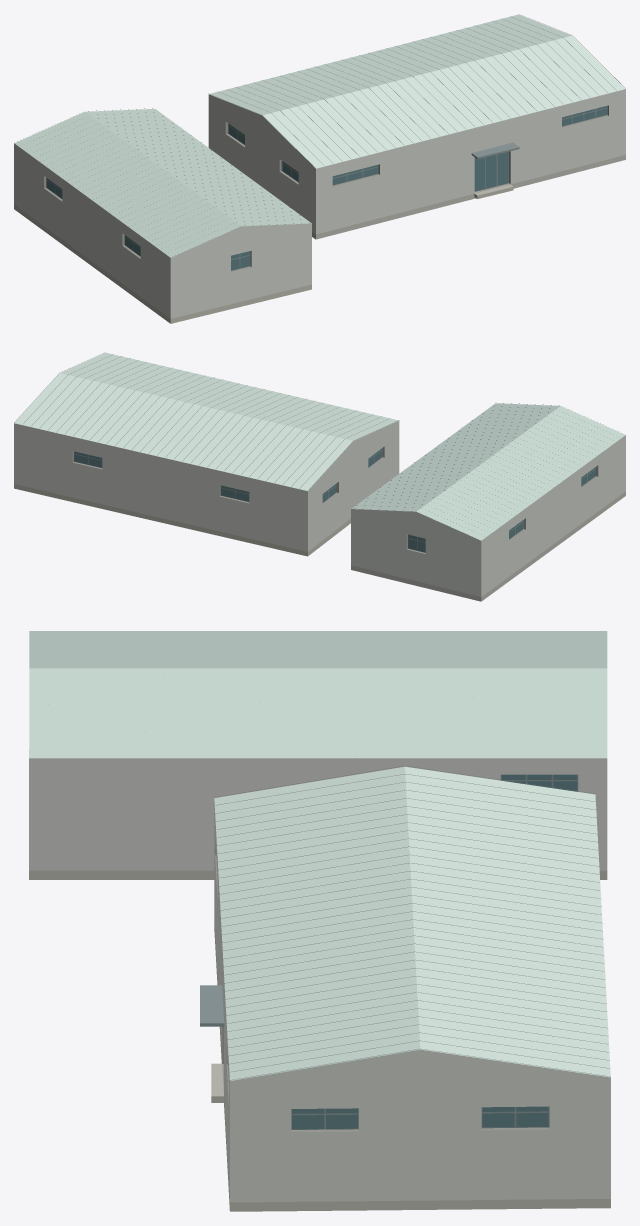
3 renders of one model, top to bottom at view 1: azimuth 30°, elevation 25°; view 2: azimuth 150°, elevation 25°; view 3: azimuth 270°, elevation 25°, orthographic. The views are drawn at different scales.
Visible parts, largest first — view 1: old-museum__mintPitchedWing1, old-museum__mintPitchedWing0, old-museum__museumWing1_face1, old-museum__museumWing0_face2, old-museum__museumWing0_face1, old-museum__museumWing1_face2, old-museum__mintPitchedWing1Seams, old-museum__museumWing0Base, old-museum__museumWing1Base, old-museum__museumWing1_face1_entry, old-museum__mintPitchedWing0End, old-museum__mintPitchedWing1End (+4 smaller); view 2: old-museum__mintPitchedWing1, old-museum__mintPitchedWing0, old-museum__museumWing1_face3, old-museum__museumWing0_face2, old-museum__museumWing0_face3, old-museum__museumWing1_face2, old-museum__mintPitchedWing1Seams, old-museum__museumWing1Base, old-museum__museumWing0Base, old-museum__mintPitchedWing0End, old-museum__mintPitchedWing1End, old-museum__museumWing1_face3_glass (+3 smaller); view 3: old-museum__mintPitchedWing1, old-museum__mintPitchedWing0, old-museum__museumWing1_face0, old-museum__museumWing0_face0, old-museum__mintPitchedWing1Seams, old-museum__mintPitchedWing1End, old-museum__museumWing1Base, old-museum__museumWing1_face0_glass, old-museum__museumWing0Base, old-museum__museumWing1_face1, old-museum__entryWeatherHood, old-museum__frame (+1 smaller).
Part boxes in pixels (left/top/right/bottom): old-museum__mintPitchedWing1: left=209, top=14, right=625, bottom=168; old-museum__mintPitchedWing0: left=14, top=109, right=311, bottom=257; old-museum__museumWing1_face1: left=316, top=89, right=625, bottom=234; old-museum__museumWing0_face2: left=14, top=143, right=170, bottom=318; old-museum__museumWing0_face1: left=170, top=223, right=311, bottom=318; old-museum__museumWing1_face2: left=208, top=94, right=315, bottom=234; old-museum__mintPitchedWing1Seams: left=208, top=14, right=625, bottom=167; old-museum__museumWing0Base: left=14, top=204, right=311, bottom=323; old-museum__museumWing1Base: left=312, top=155, right=625, bottom=239; old-museum__museumWing1_face1_entry: left=474, top=152, right=508, bottom=191; old-museum__mintPitchedWing0End: left=172, top=223, right=310, bottom=257; old-museum__mintPitchedWing1End: left=209, top=94, right=315, bottom=168; old-museum__mintPitchedWing1: left=14, top=352, right=398, bottom=490; old-museum__mintPitchedWing0: left=351, top=403, right=625, bottom=540; old-museum__museumWing1_face3: left=14, top=423, right=307, bottom=551; old-museum__museumWing0_face2: left=481, top=435, right=625, bottom=596; old-museum__museumWing0_face3: left=351, top=509, right=481, bottom=596; old-museum__museumWing1_face2: left=308, top=421, right=399, bottom=551; old-museum__mintPitchedWing1Seams: left=14, top=352, right=399, bottom=490; old-museum__museumWing1Base: left=14, top=484, right=350, bottom=556; old-museum__museumWing0Base: left=351, top=491, right=625, bottom=601; old-museum__mintPitchedWing0End: left=352, top=509, right=480, bottom=540; old-museum__mintPitchedWing1End: left=309, top=421, right=398, bottom=489; old-museum__museumWing1_face3_glass: left=74, top=451, right=249, bottom=501; old-museum__mintPitchedWing1: left=214, top=766, right=610, bottom=1080; old-museum__mintPitchedWing0: left=29, top=631, right=607, bottom=758; old-museum__museumWing1_face0: left=230, top=1077, right=610, bottom=1202; old-museum__museumWing0_face0: left=29, top=758, right=607, bottom=870; old-museum__mintPitchedWing1Seams: left=215, top=766, right=610, bottom=1080; old-museum__mintPitchedWing1End: left=232, top=1049, right=608, bottom=1080; old-museum__museumWing1Base: left=214, top=923, right=610, bottom=1211; old-museum__museumWing1_face0_glass: left=292, top=1106, right=548, bottom=1129; old-museum__museumWing0Base: left=29, top=870, right=607, bottom=879; old-museum__museumWing1_face1: left=214, top=801, right=229, bottom=1200; old-museum__entryWeatherHood: left=200, top=985, right=224, bottom=1026; old-museum__frame: left=291, top=774, right=578, bottom=1129.
Bounding box in the file's own units: 44.82 × 7.33 × 24.
